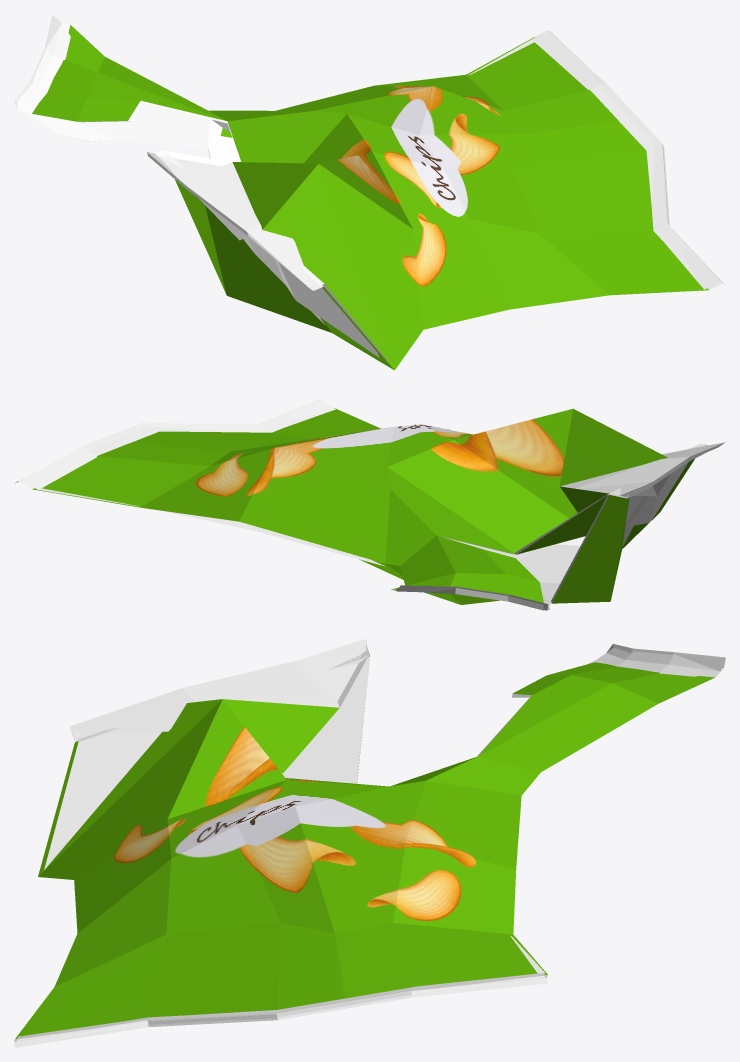
Rendered from chips-green.gltf.
3 views of the same model, one above another, from view 1: azimuth 30°, elevation 25°; view 2: azimuth 150°, elevation 25°; view 3: azimuth 270°, elevation 25° (orthographic). The views are drawn at different scales.
Parts seen in each view (by area): view 1: Cube; view 2: Cube; view 3: Cube.
Boxes of the visible parts, x1,y1,x2,y2 form: Cube: [14, 15, 724, 370]; Cube: [15, 399, 725, 610]; Cube: [14, 639, 725, 1047].
Size of the model in its own units: 0.9816 by 0.2989 by 0.9951.
2 materials, 1 textured.
